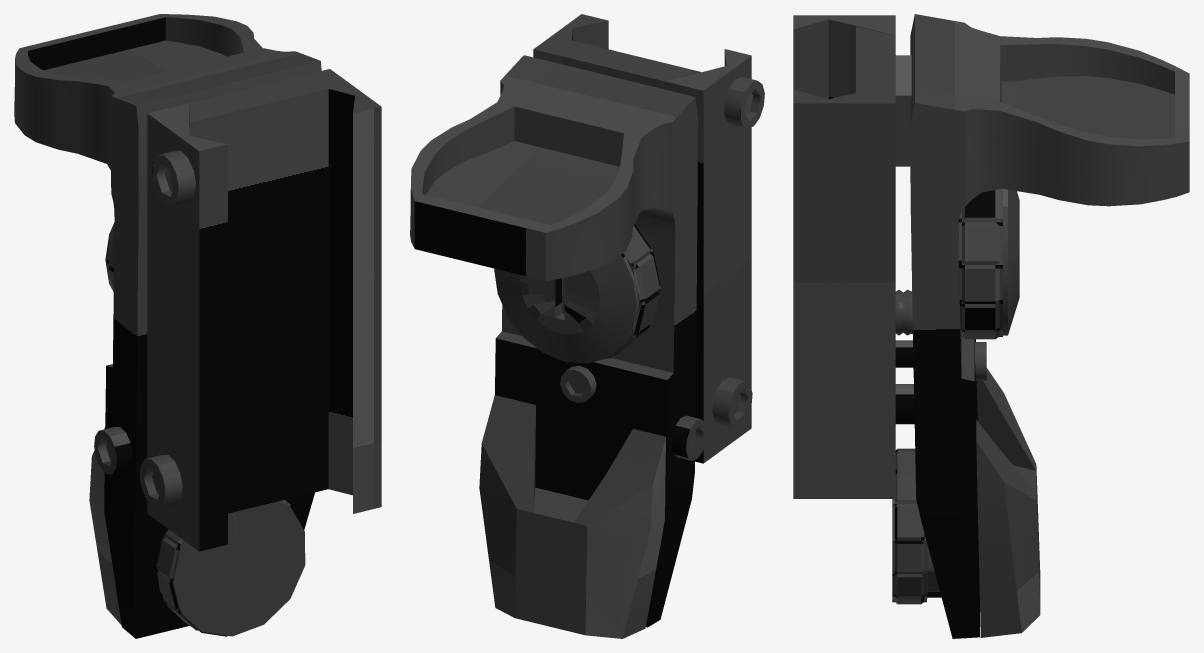
File: Optic_RedDot.fbx
3 renders of one model, left to right at view 1: azimuth 30°, elevation 25°; view 2: azimuth 150°, elevation 25°; view 3: azimuth 270°, elevation 25°, orthographic. The views are drawn at different scales.
Parts seen in each view (by area): view 1: asset_Optic_RedDot.001; view 2: asset_Optic_RedDot.001; view 3: asset_Optic_RedDot.001.
Boxes of the visible parts, x1,y1,x2,y2 form: asset_Optic_RedDot.001: [14, 14, 381, 638]; asset_Optic_RedDot.001: [410, 14, 764, 638]; asset_Optic_RedDot.001: [793, 14, 1189, 638].
Size of the model in its own units: 0.0122 by 0.03 by 0.0198.
